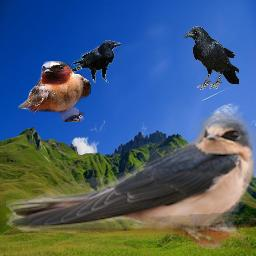Crow: (183, 26, 239, 90), (68, 40, 123, 83)
Swallow: (6, 112, 256, 249), (18, 61, 91, 122)
